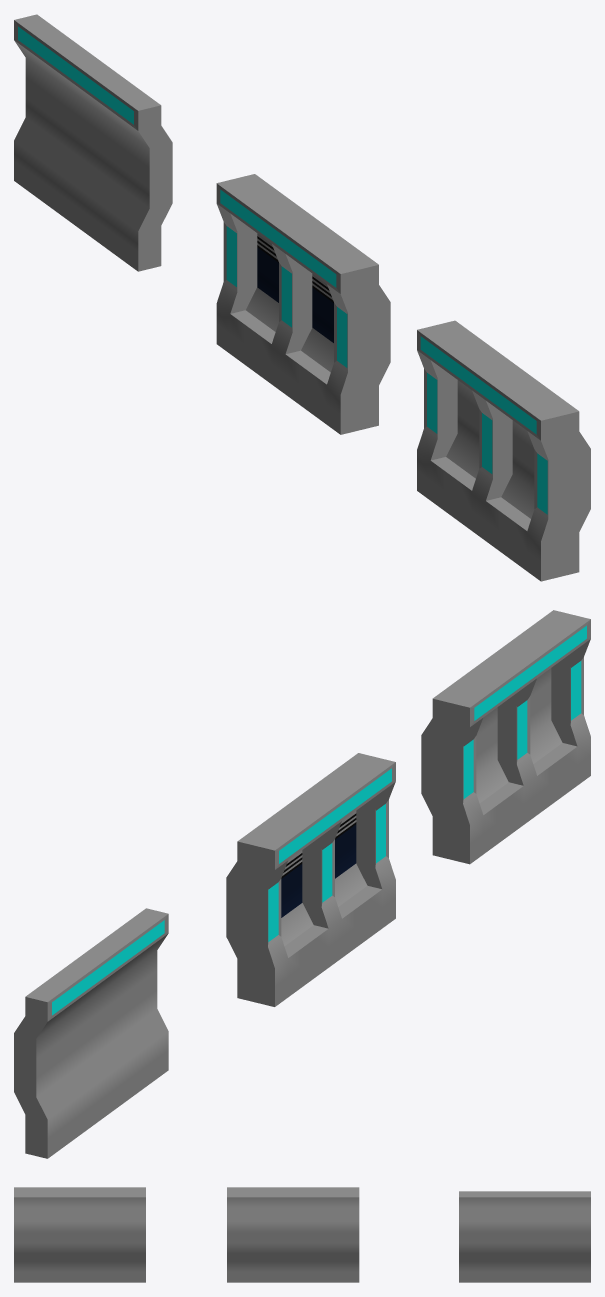
File: mesh_walls.FBX
3 renders of one model, top to bottom at view 1: azimuth 30°, elevation 25°; view 2: azimuth 150°, elevation 25°; view 3: azimuth 270°, elevation 25°, orthographic. The views are drawn at different scales.
Visible parts, largest first — view 1: Box001, Box004, Box003; view 2: Box001, Box004, Box003; view 3: Box001, Box004, Box003.
Boxes of the visible parts, x1,y1,x2,y2 form: Box001: (216, 174, 390, 434); Box004: (417, 320, 590, 581); Box003: (14, 14, 172, 271); Box001: (226, 753, 395, 1006); Box004: (421, 610, 590, 864); Box003: (14, 908, 168, 1158); Box001: (227, 1187, 359, 1282); Box004: (14, 1187, 145, 1282); Box003: (459, 1191, 590, 1282).
Bounding box in the file's own units: 32.61 × 100 × 611.
